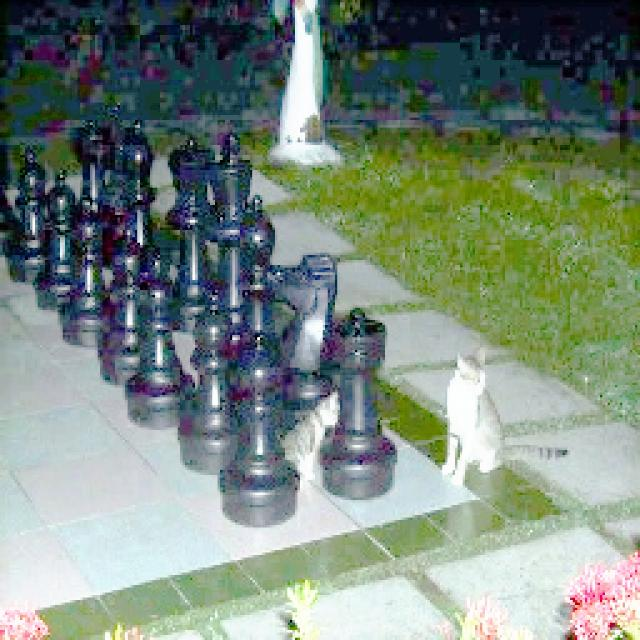cat: (424, 341, 586, 500), (268, 385, 350, 502)
